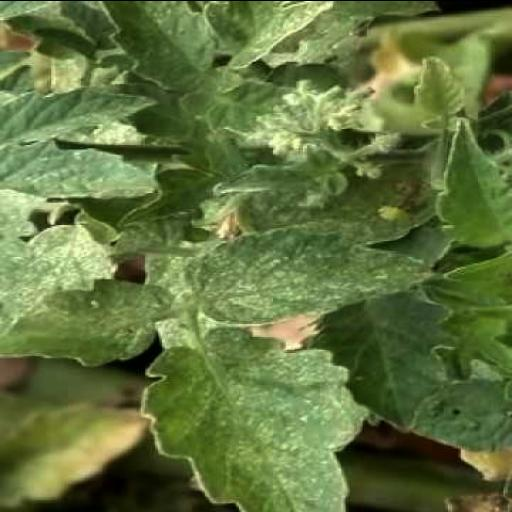disease_tomato: (136, 325, 366, 512), (182, 220, 442, 326), (0, 274, 182, 368)
